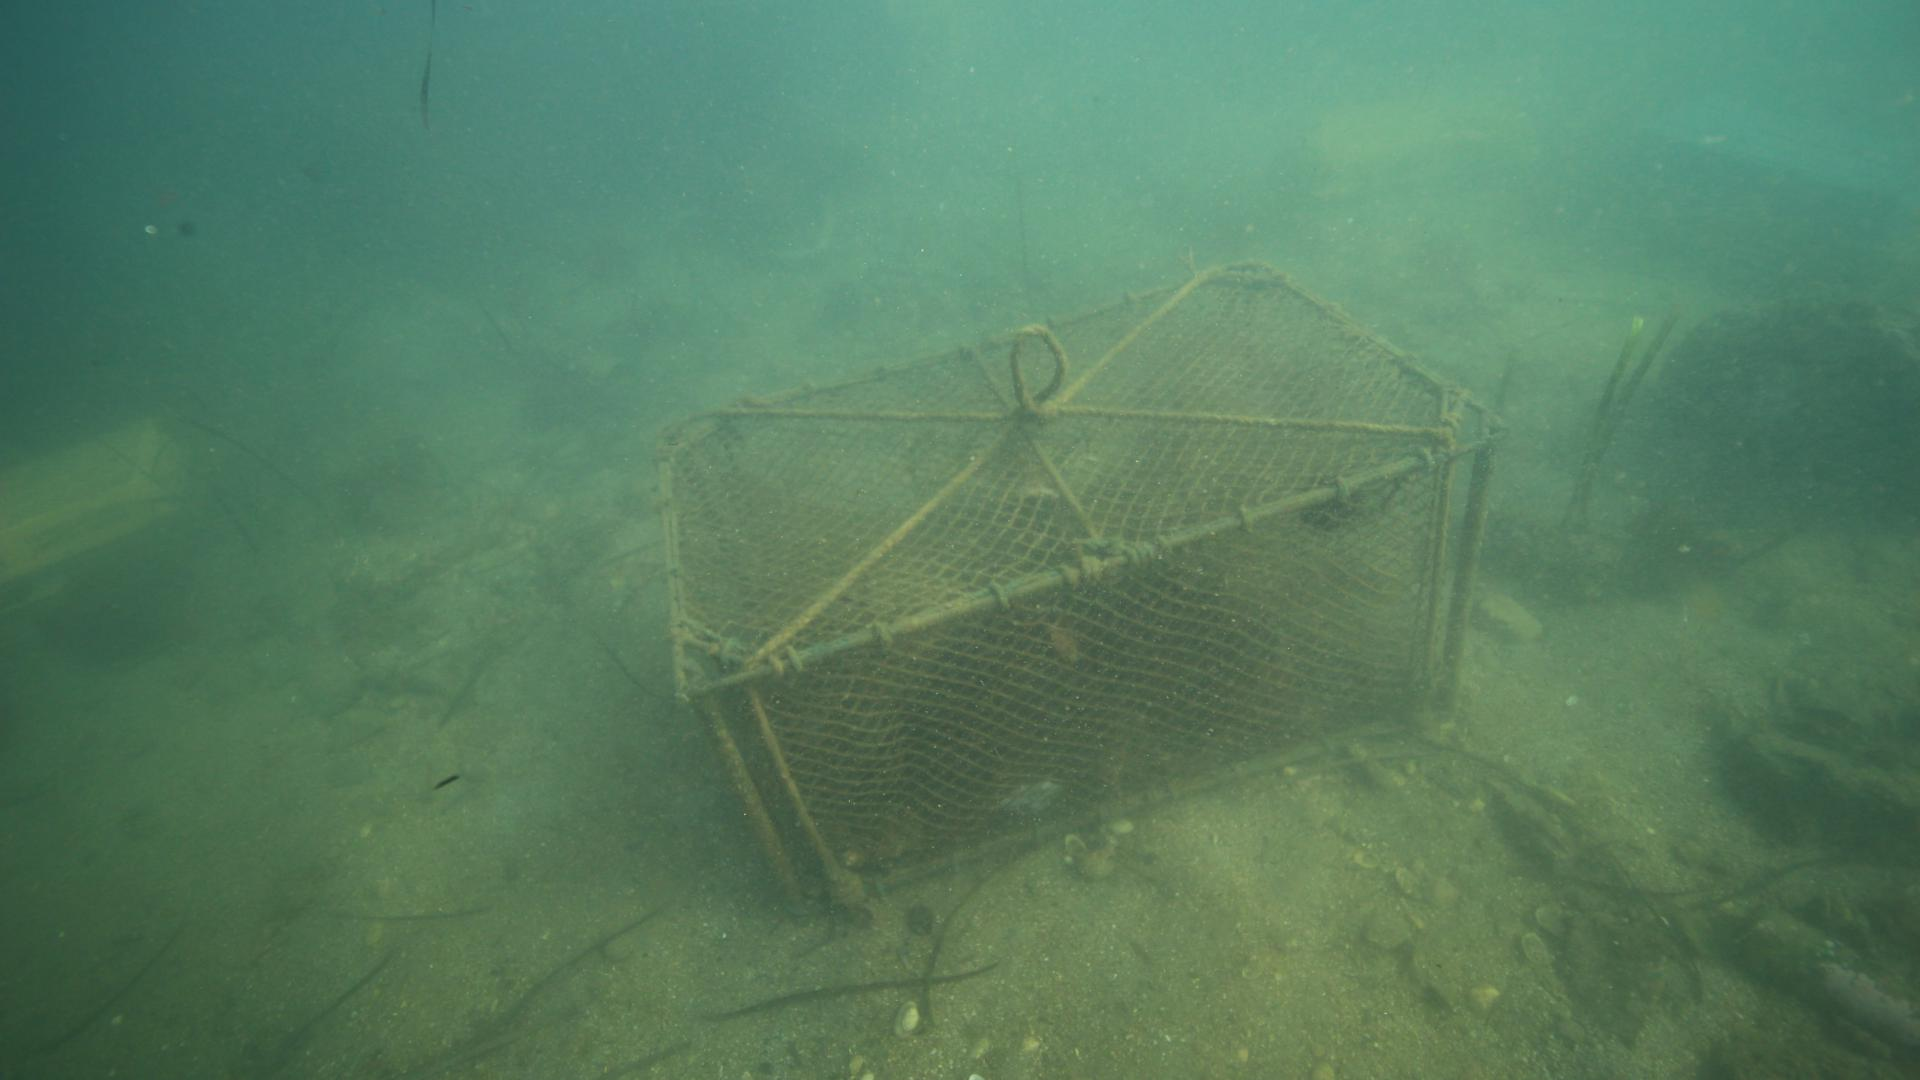rectangular fish trap: (651, 257, 1510, 918)
